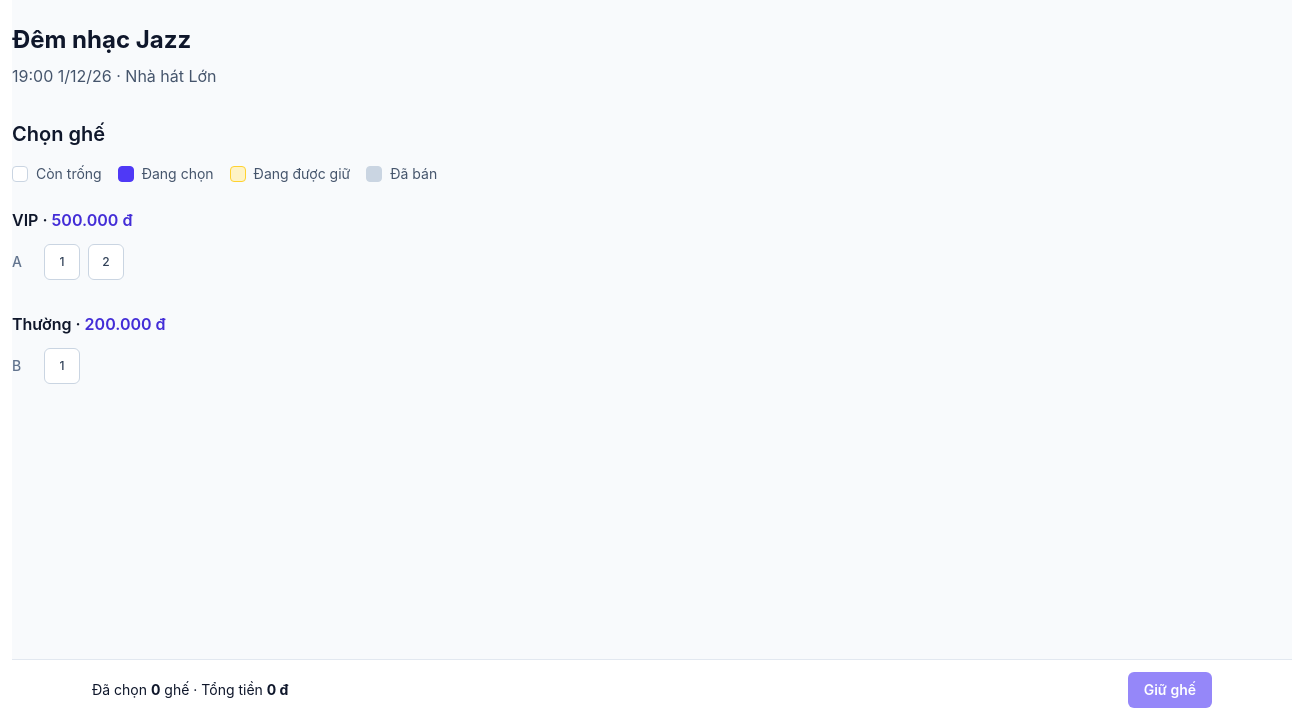
it: EventDetailPage › chọn 2 VIP + 1 Thường → thanh dưới hiện tổng tiền 1.200.000 đ
Click the button named "VIP hàng A ghế 1, 500.000 đ": (62,262) top-left (44, 244), bottom-right (80, 280)
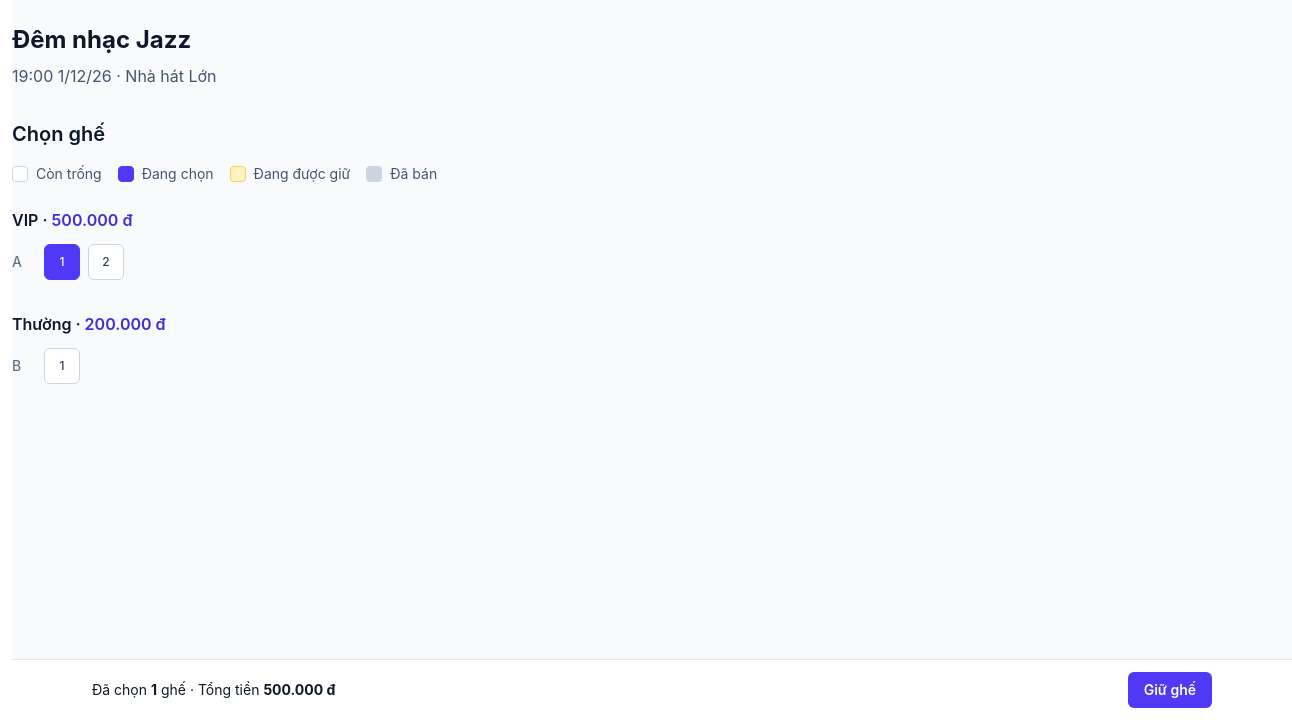
Click the button named "VIP hàng A ghế 2, 500.000 đ": (106,262) top-left (88, 244), bottom-right (124, 280)
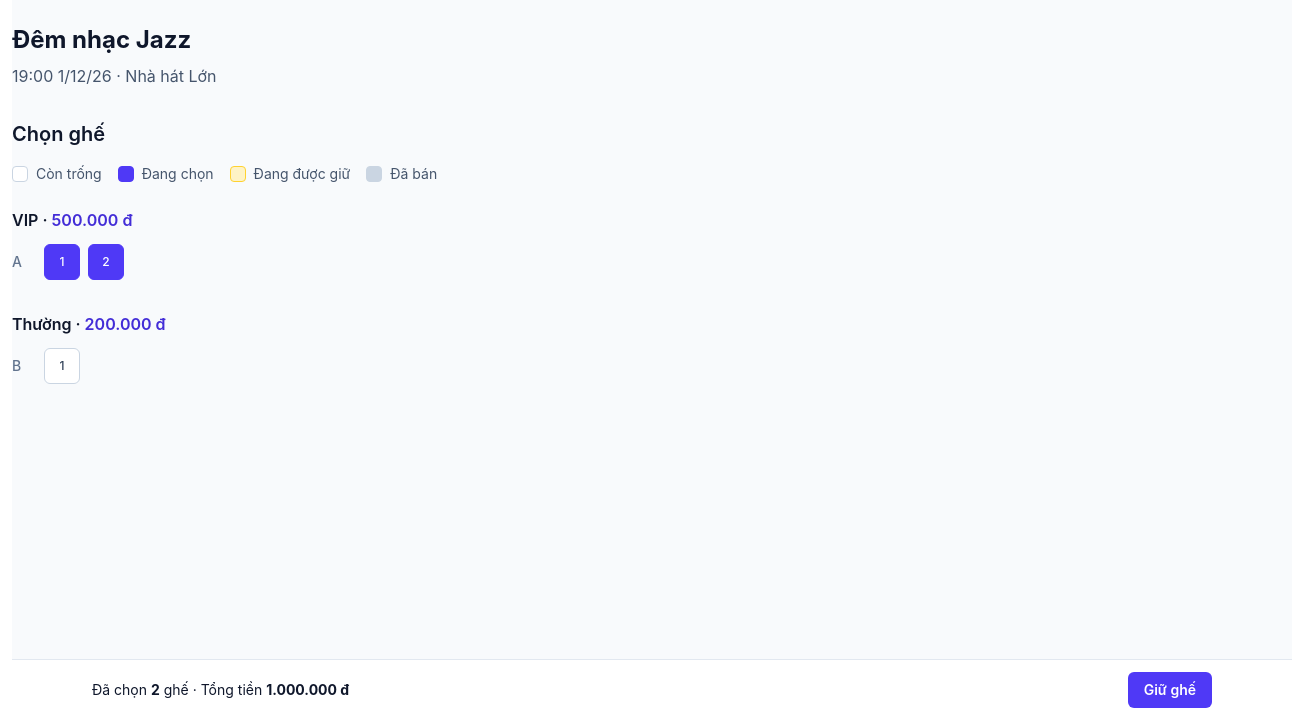
Click the button named "Thường hàng B ghế 1, 200.000 đ": (62,366) top-left (44, 348), bottom-right (80, 384)
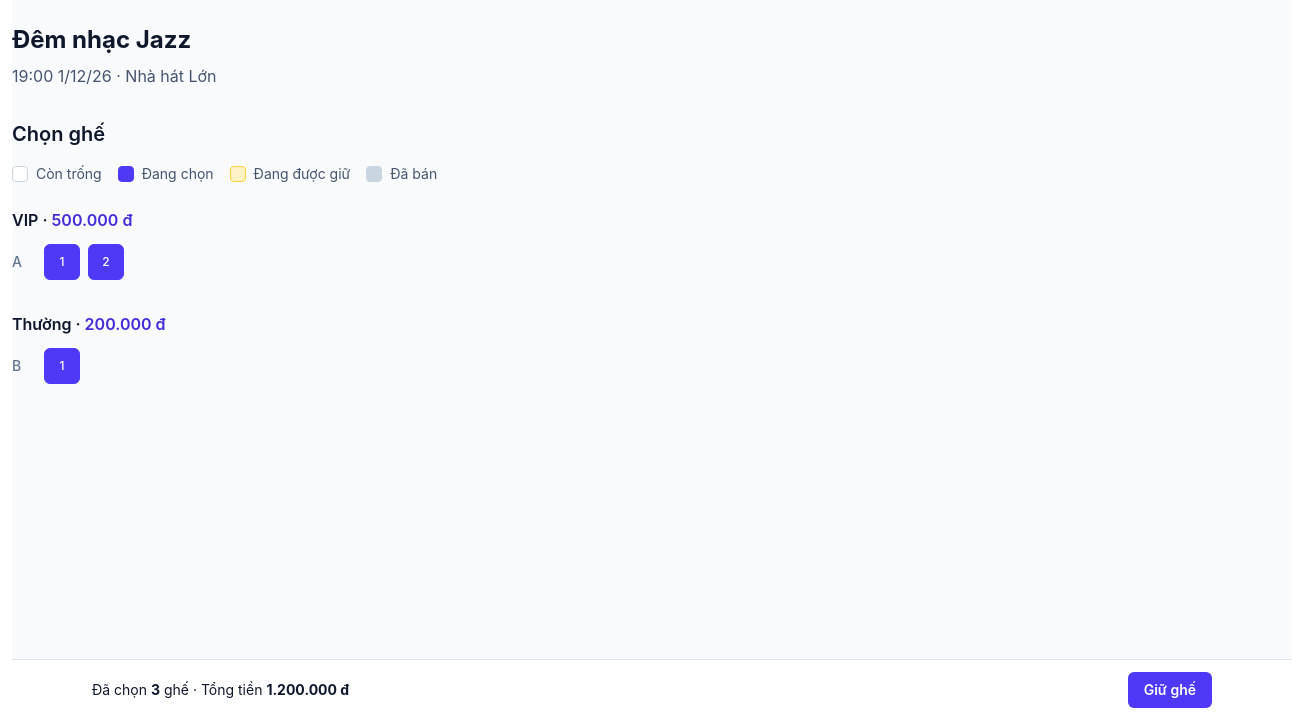
Result: the element showing "Đã chọn 3 ghế · Tổng tiền 1.200.000 đ" is shown at top-left (92, 680), bottom-right (349, 700)
